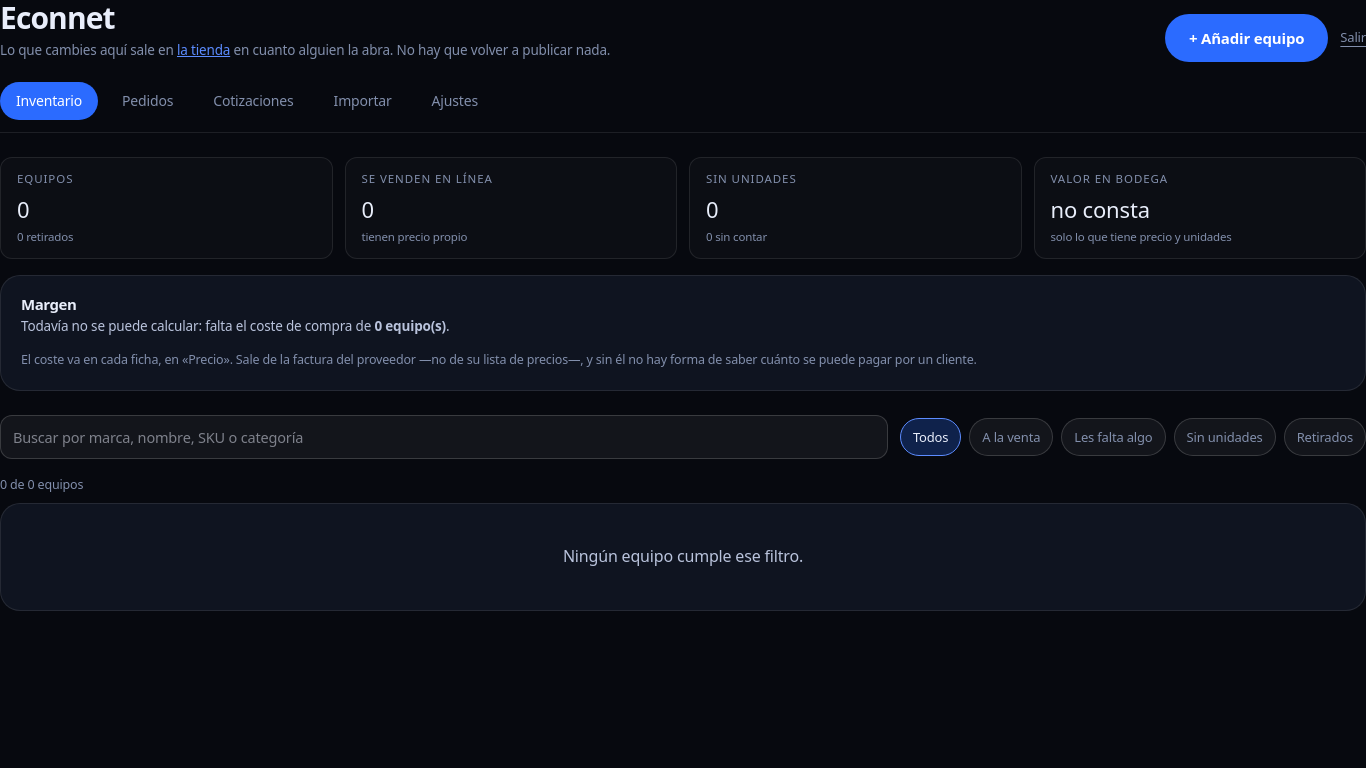
pedidos › solo se ofrecen los estados a los que de verdad se puede ir
Step 1. Click the button "Pedidos" → coordinates (148, 101), box [106,82,189,120]
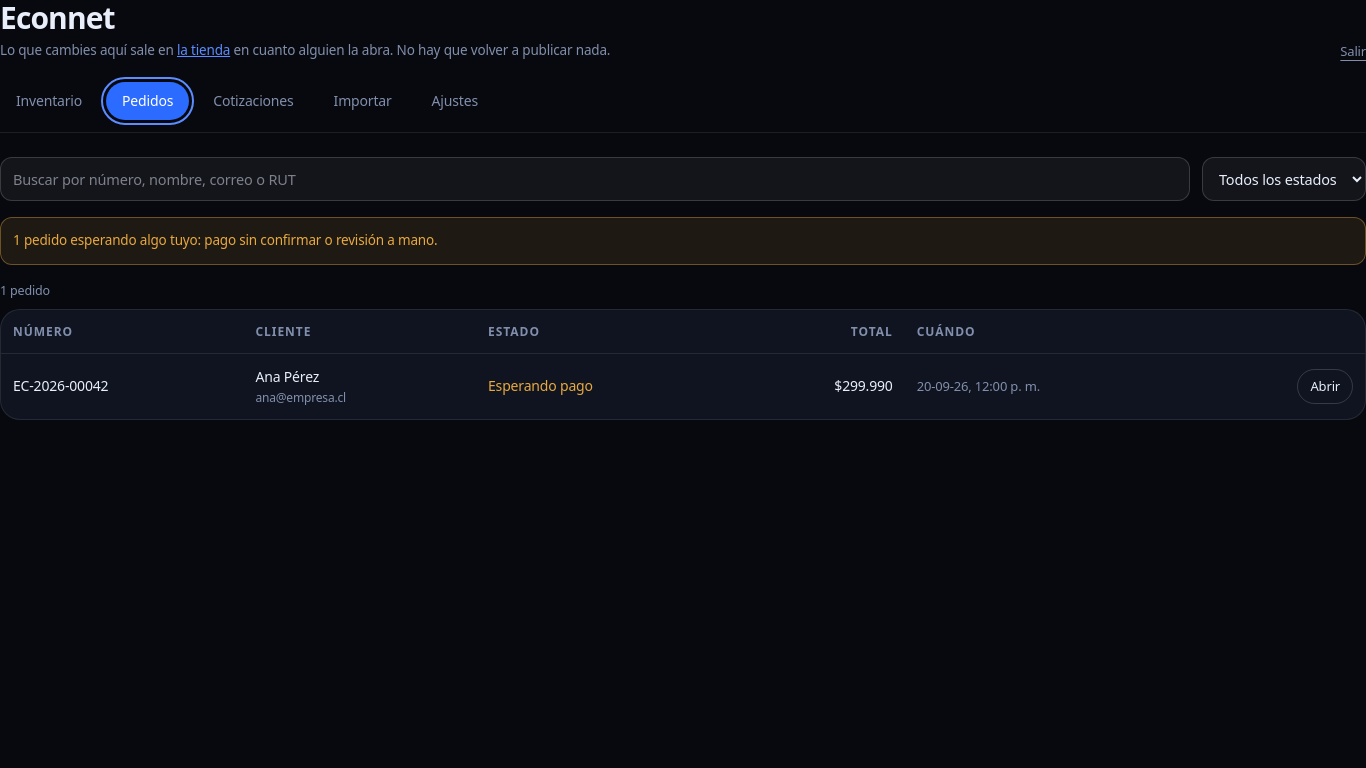
Step 2. Click the button "Abrir" → coordinates (1325, 387), box [1298,369,1353,404]
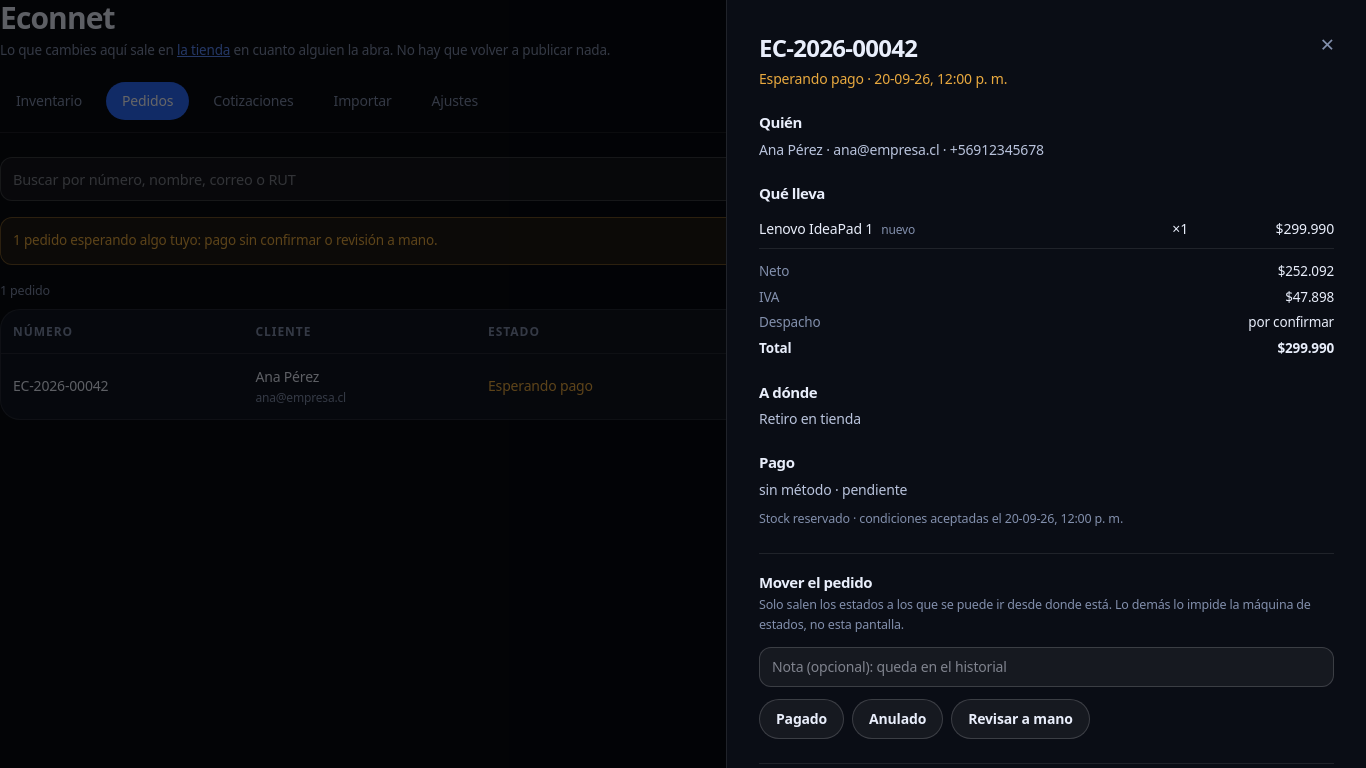
Expected: the button "Pagado" is shown, [759,699,844,739]
Expected: the button "Anulado" is shown, [852,699,943,739]
